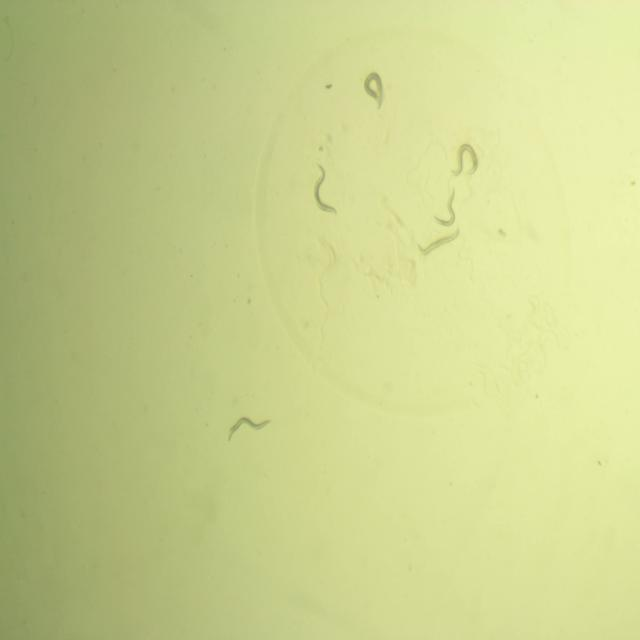worm: (309, 160, 340, 222), (225, 409, 273, 448), (414, 224, 462, 260), (448, 138, 481, 182), (430, 186, 460, 233), (362, 68, 389, 114)
